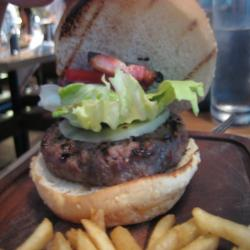burger: (33, 1, 204, 229)
fries: (22, 216, 242, 250)
salad: (61, 79, 193, 121)
